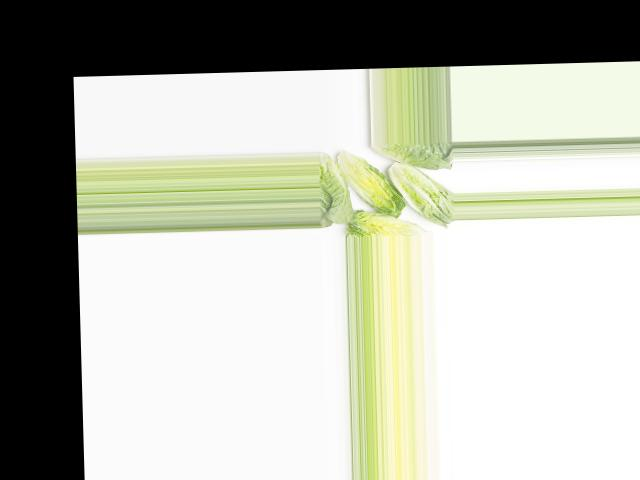lettuce: (317, 153, 356, 228)
